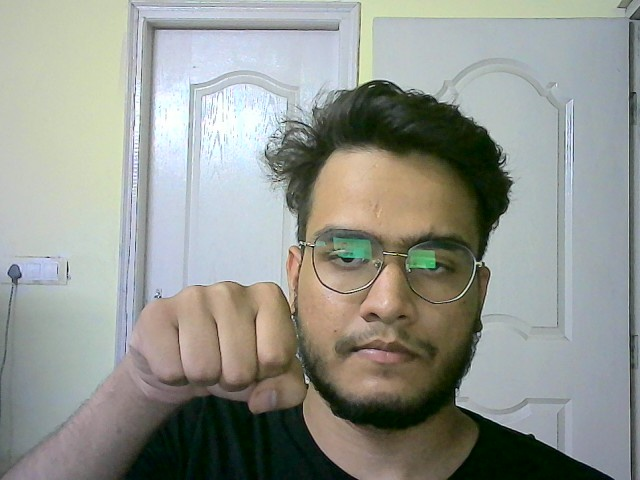Yes: (118, 278, 319, 425)
